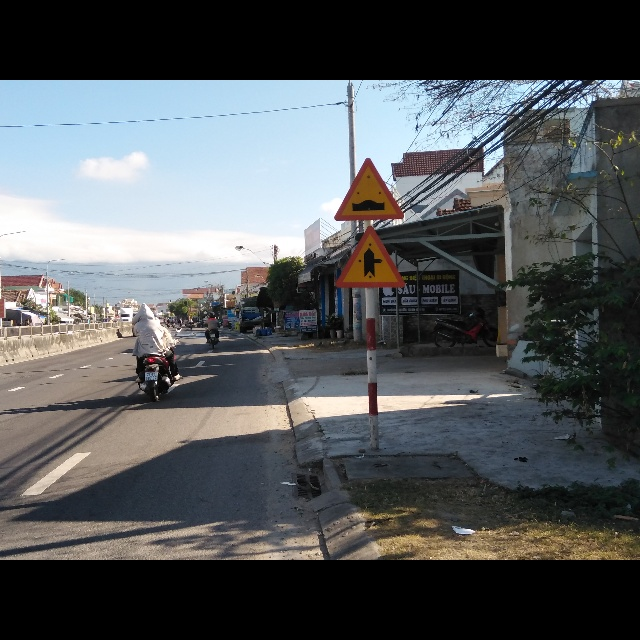Giao nhau với đường không ưu tiên: (333, 225, 406, 290)
Đường không bằng phẳng: (333, 154, 404, 221)
